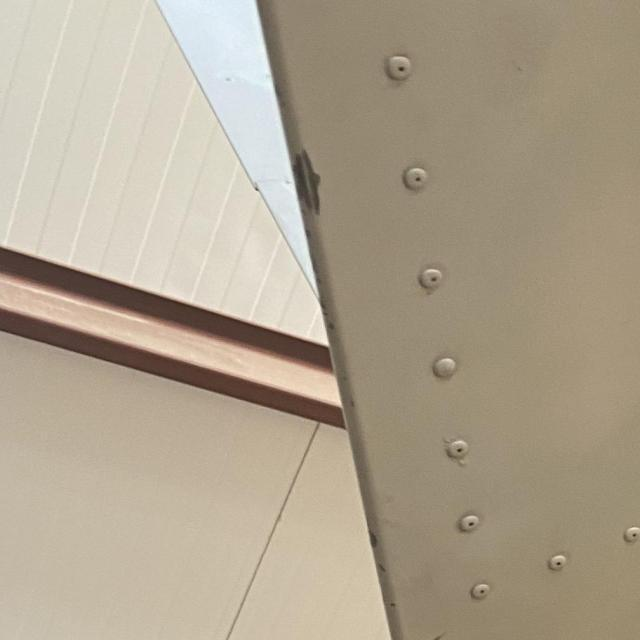Paint-off: (293, 151, 322, 213), (367, 530, 378, 552), (424, 631, 448, 640), (377, 561, 389, 575)
